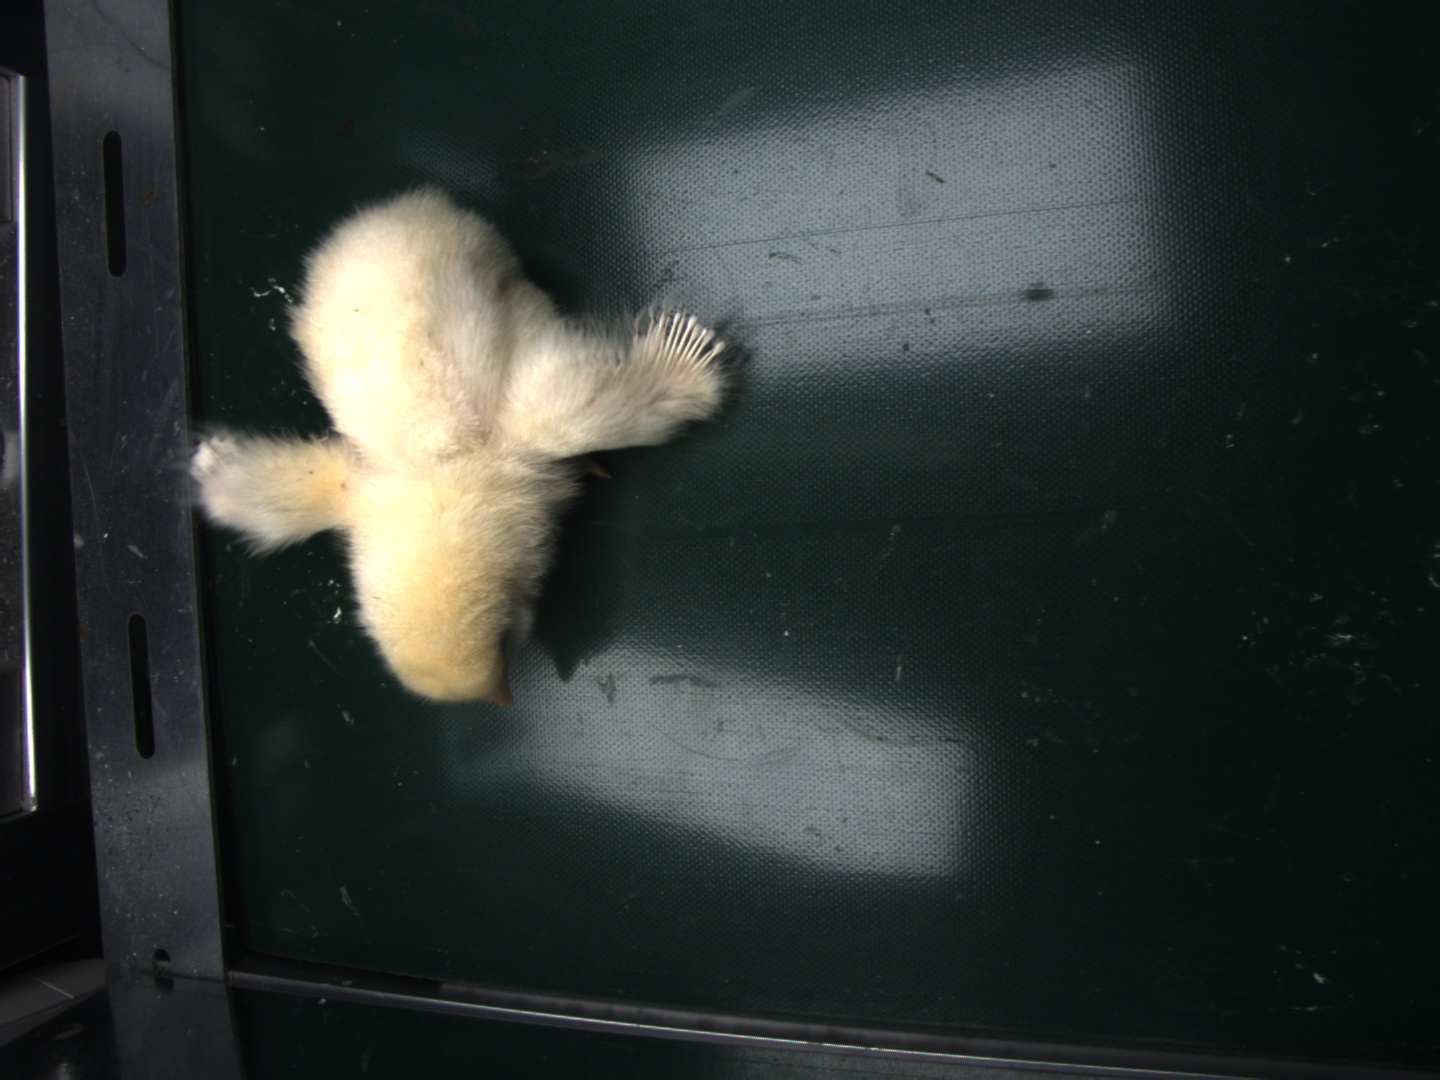male: (643, 307, 728, 368)
